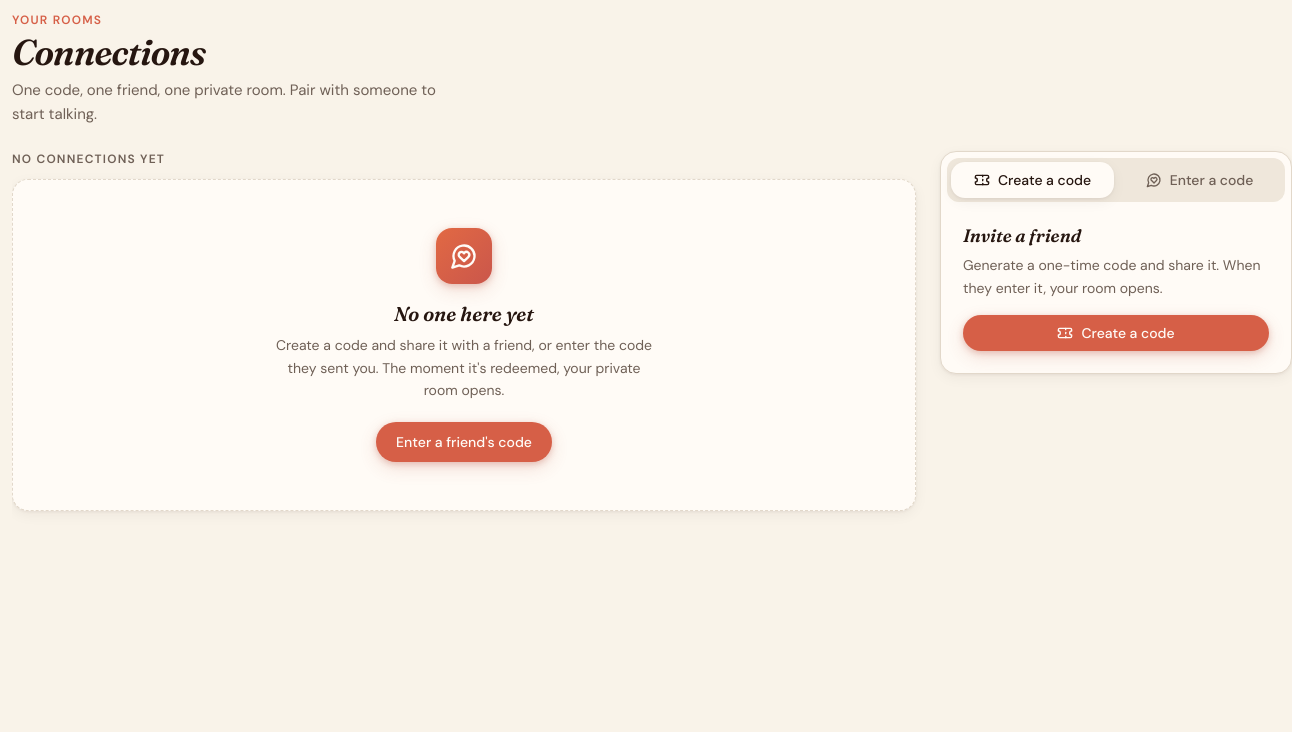
Test: ConnectionsPage pairing flows › rejects an invalid code with a visible error and keeps the draft for retry
Click the tab "Enter a code" at (1200, 180), box [1118,162,1281,198]
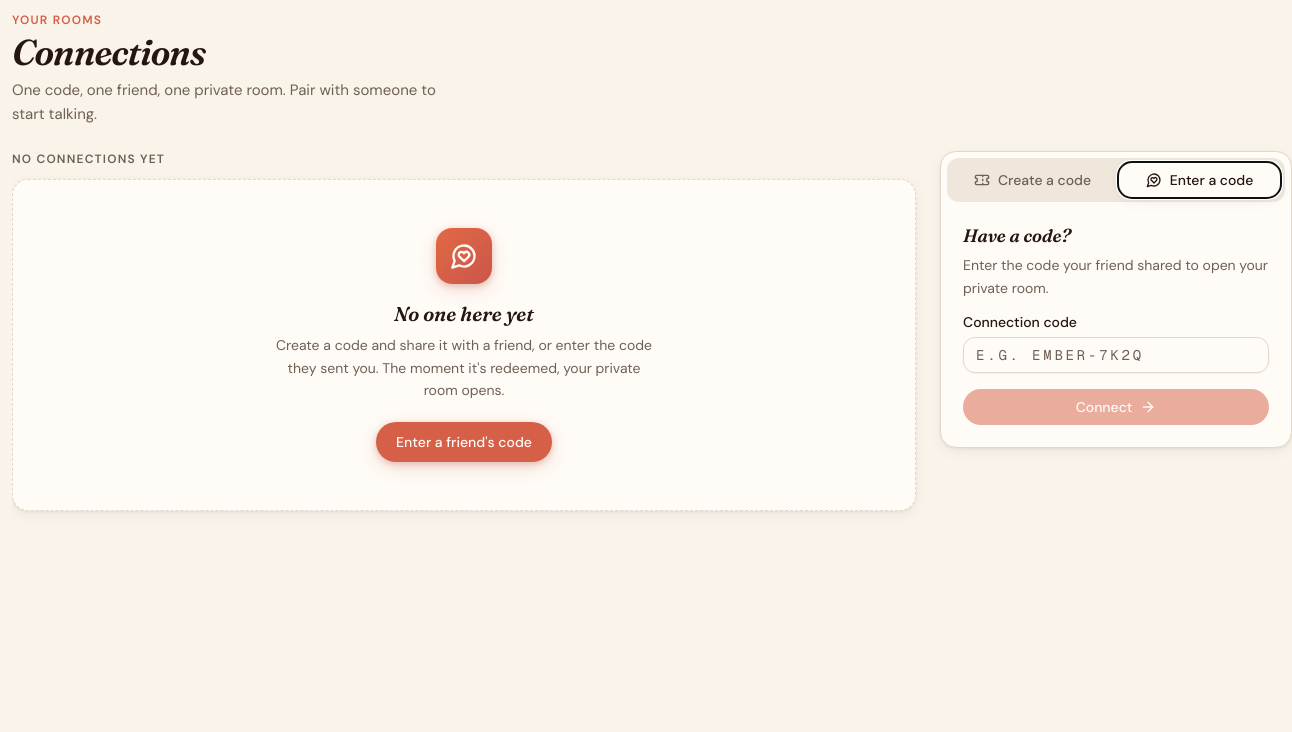
Type "WRONG-CODE" into the field labelled "Connection code" at (1116, 355), box [963,337,1269,373]
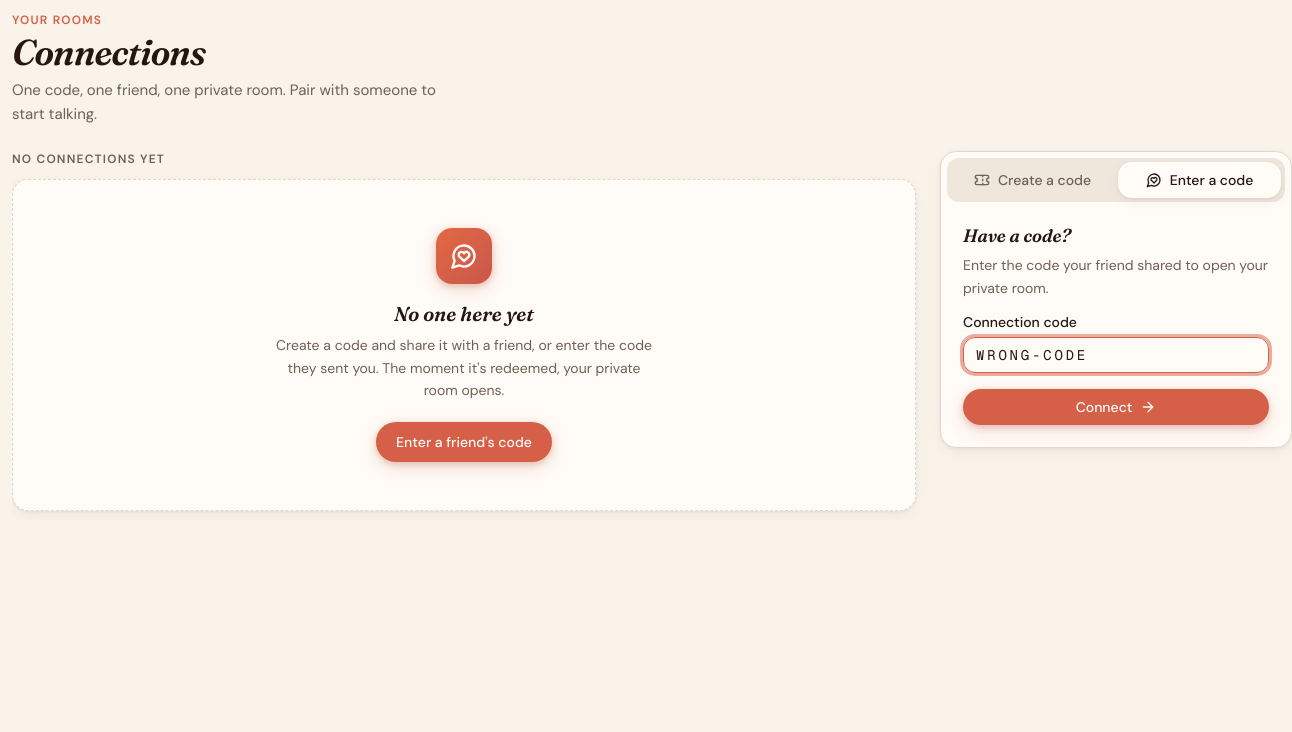
Click the button "Connect" at (1116, 407), box [963,389,1269,425]
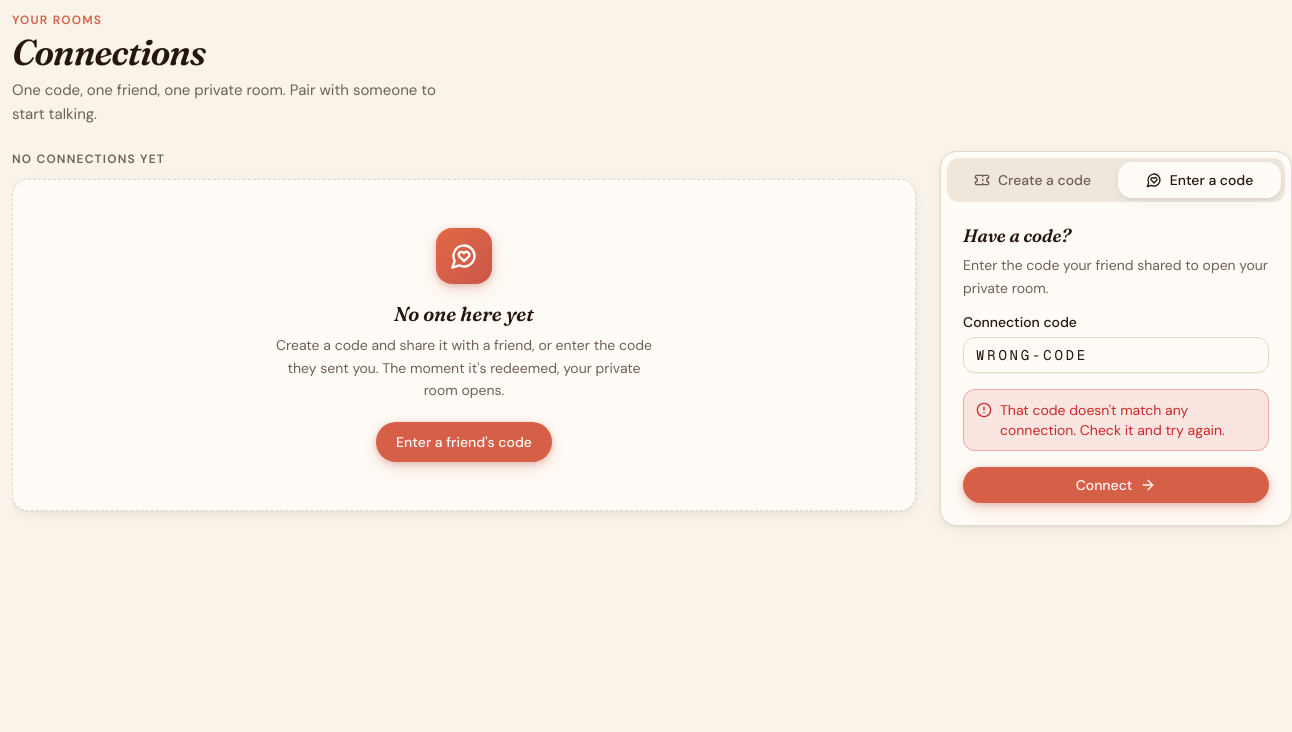
Now the message shows "doesn't match any connection", box [1000,401,1225,439]
